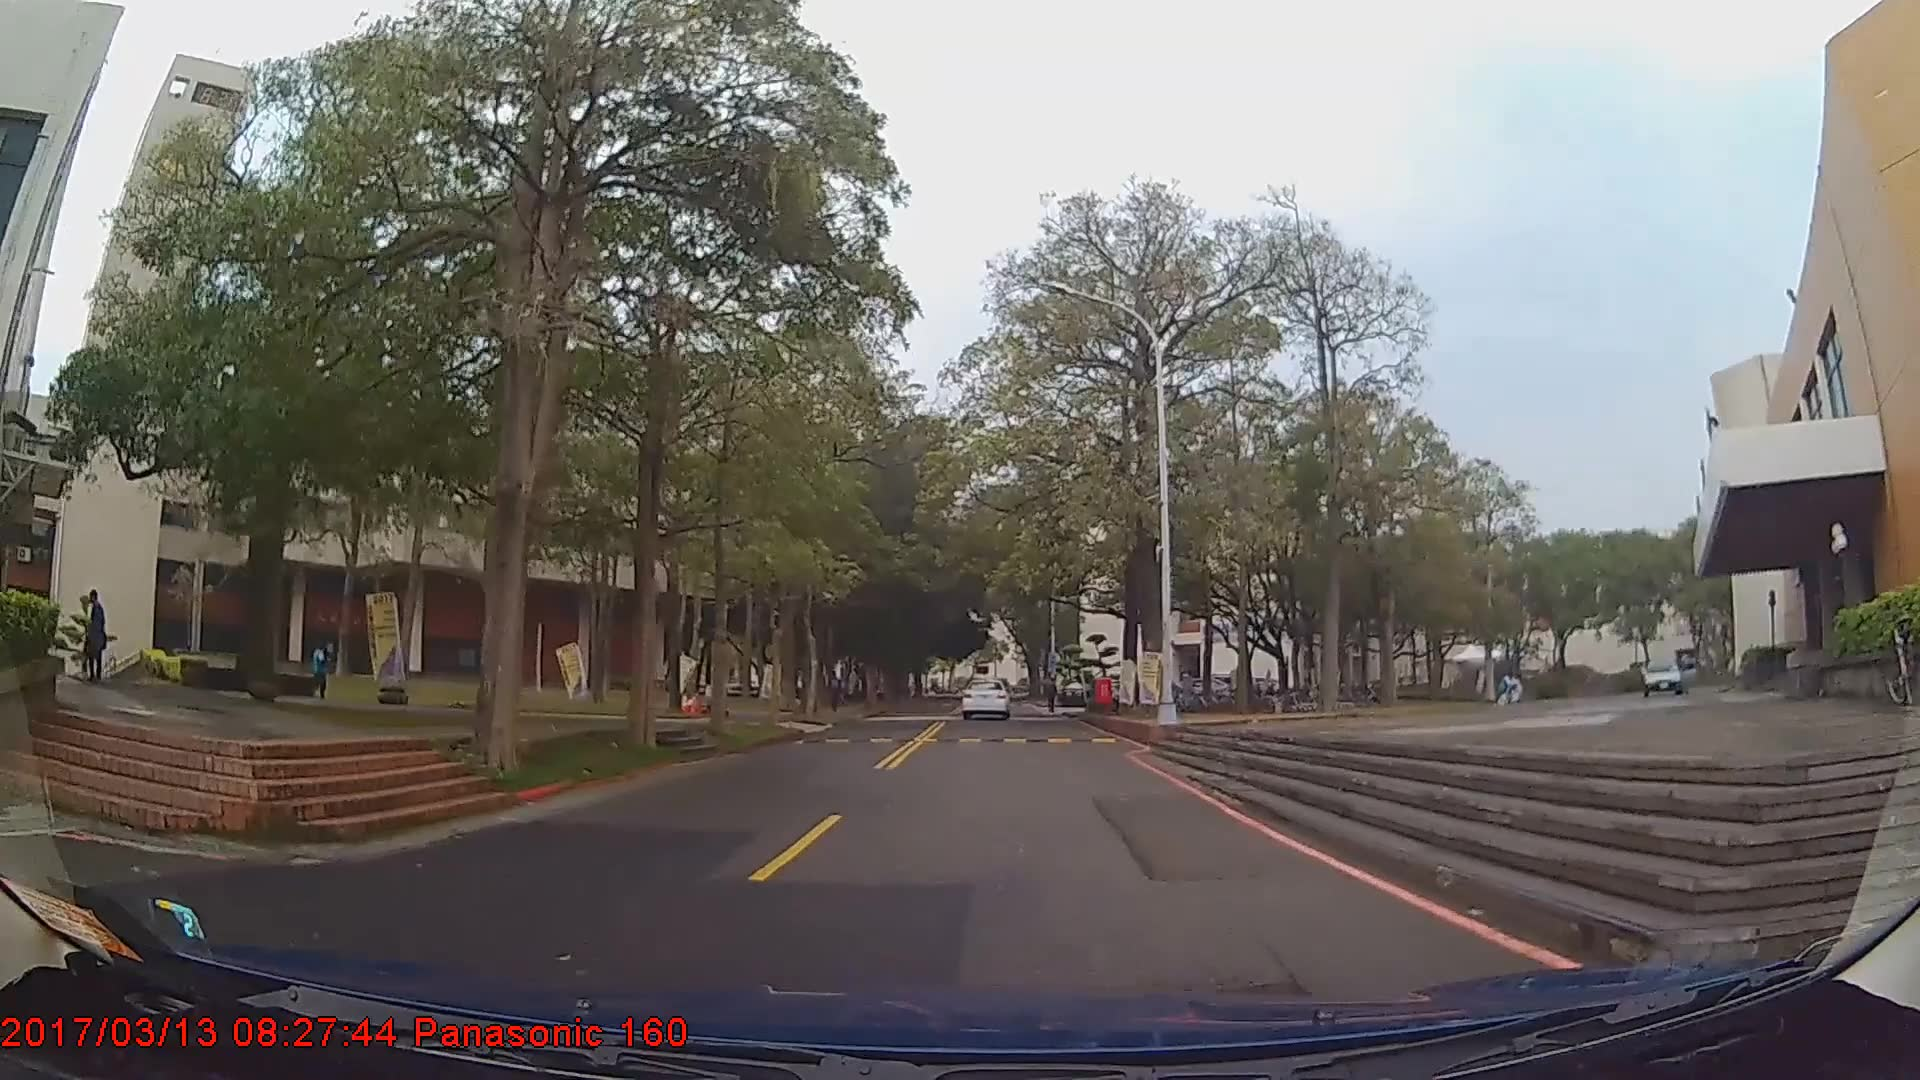pedestrian: (83, 590, 110, 681), (312, 638, 333, 699)
vehicle: (1638, 658, 1700, 701), (959, 676, 1010, 720)
